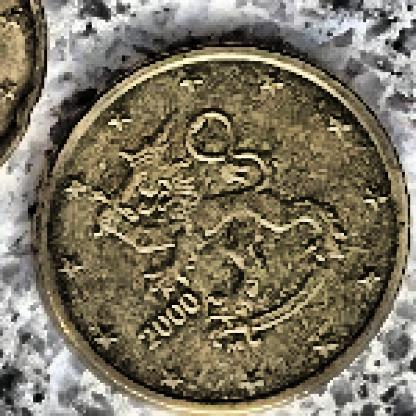coin: (35, 44, 410, 415)
